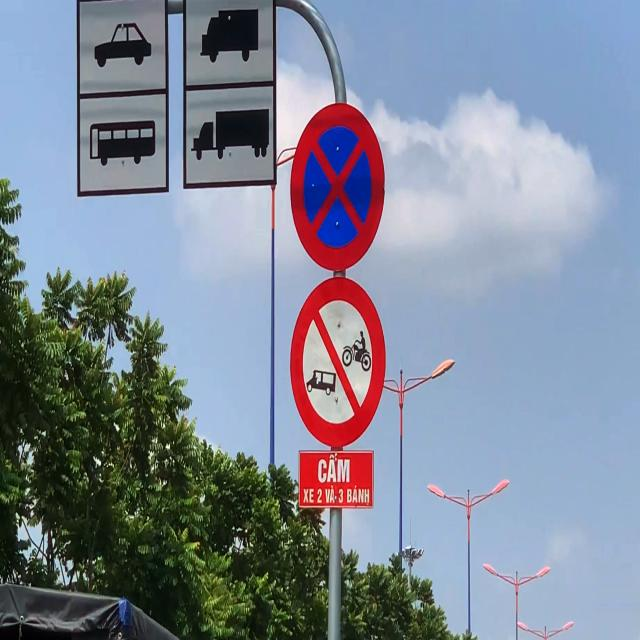Cam dung va do: (288, 98, 388, 276)
